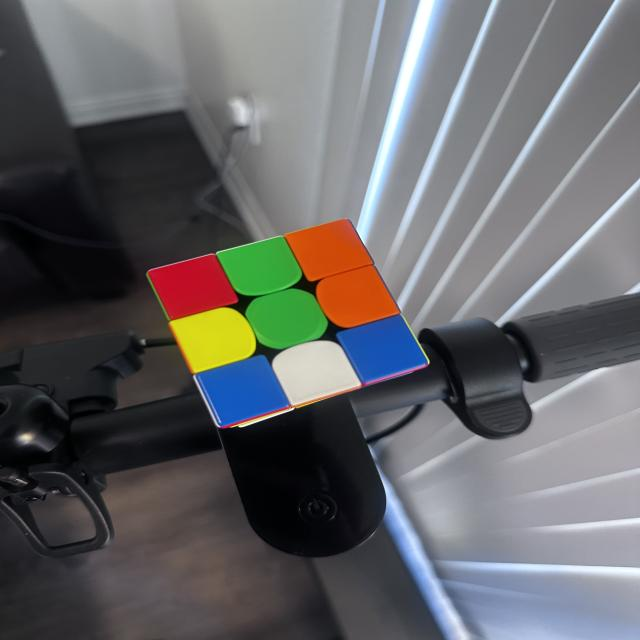sticker: (198, 357, 287, 426), (272, 338, 357, 405), (342, 318, 428, 382), (151, 257, 237, 317), (172, 308, 253, 371), (245, 289, 328, 349), (288, 220, 368, 279), (219, 239, 301, 295), (319, 268, 395, 325)
